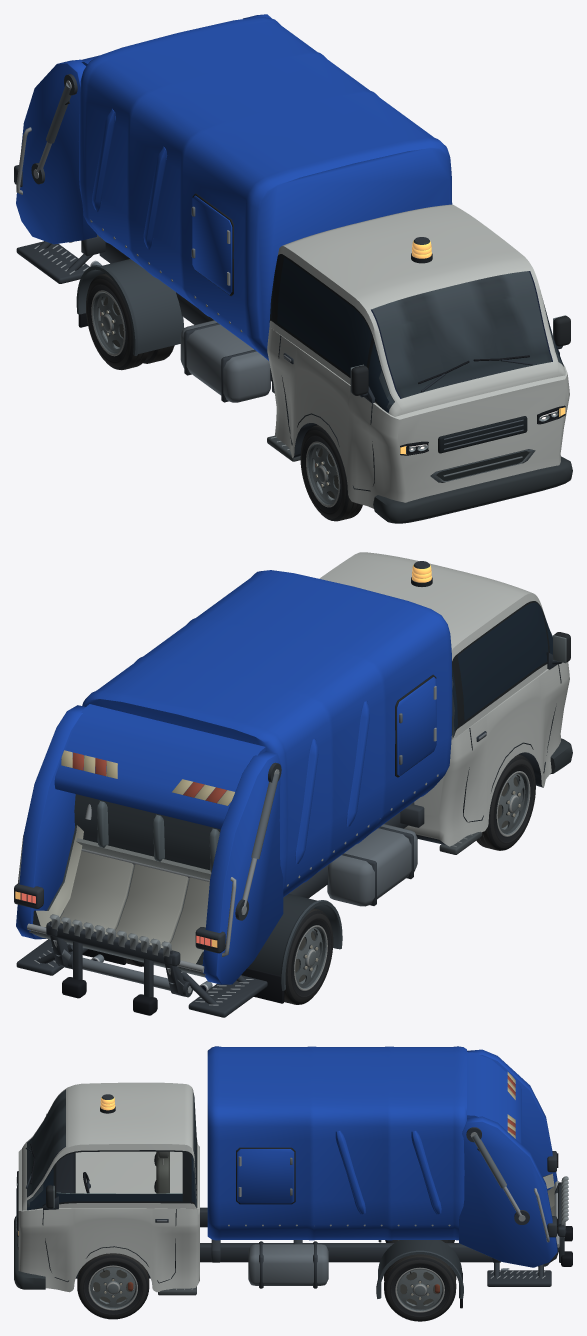
Rendered from garbagetruck_real.glb.
The picture shows the model from 3 angles, top to bottom: view 1: azimuth 30°, elevation 25°; view 2: azimuth 150°, elevation 25°; view 3: azimuth 270°, elevation 25°; orthographic projection. The views are drawn at different scales.
Parts seen in each view (by area): view 1: body, wheelRR, wheelFR; view 2: body, wheelFR, wheelRR; view 3: body, wheelRL, wheelFL.
Boxes of the visible parts, left/top/right/bottom form: body: left=14, top=14, right=572, bottom=523; wheelRR: left=86, top=273, right=174, bottom=370; wheelFR: left=300, top=425, right=362, bottom=521; body: left=14, top=552, right=572, bottom=1017; wheelFR: left=476, top=754, right=535, bottom=850; wheelRR: left=284, top=908, right=333, bottom=1004; body: left=14, top=1046, right=572, bottom=1308; wheelRL: left=384, top=1254, right=456, bottom=1321; wheelFL: left=77, top=1253, right=149, bottom=1319.
Size of the model in its own units: 2.05 by 2.6 by 6.19.
